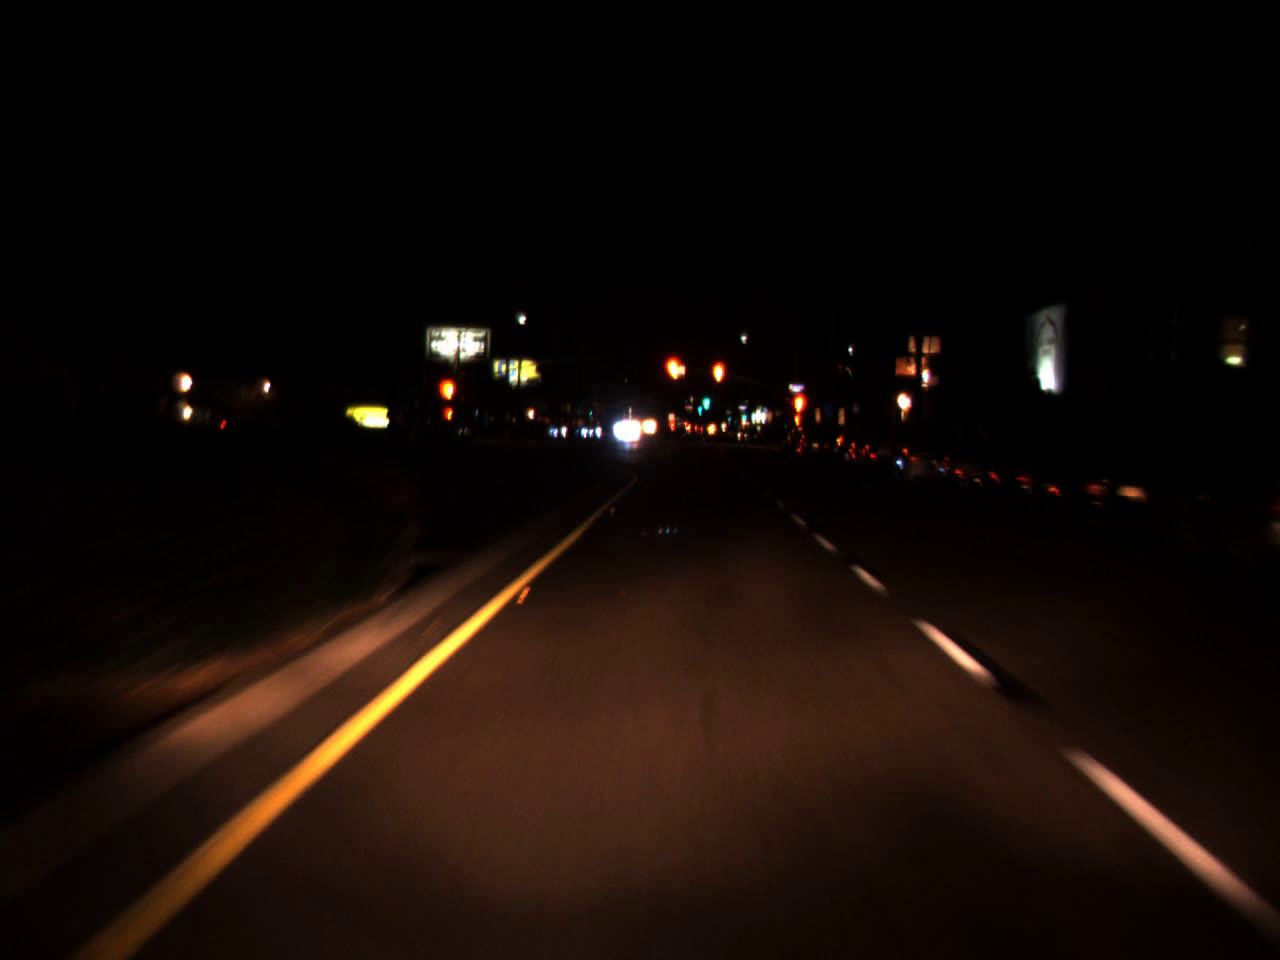go: (696, 390, 712, 408), (696, 399, 703, 414), (740, 407, 747, 422)
stop: (666, 357, 687, 402), (441, 379, 459, 422), (711, 363, 727, 392), (793, 396, 809, 425)
